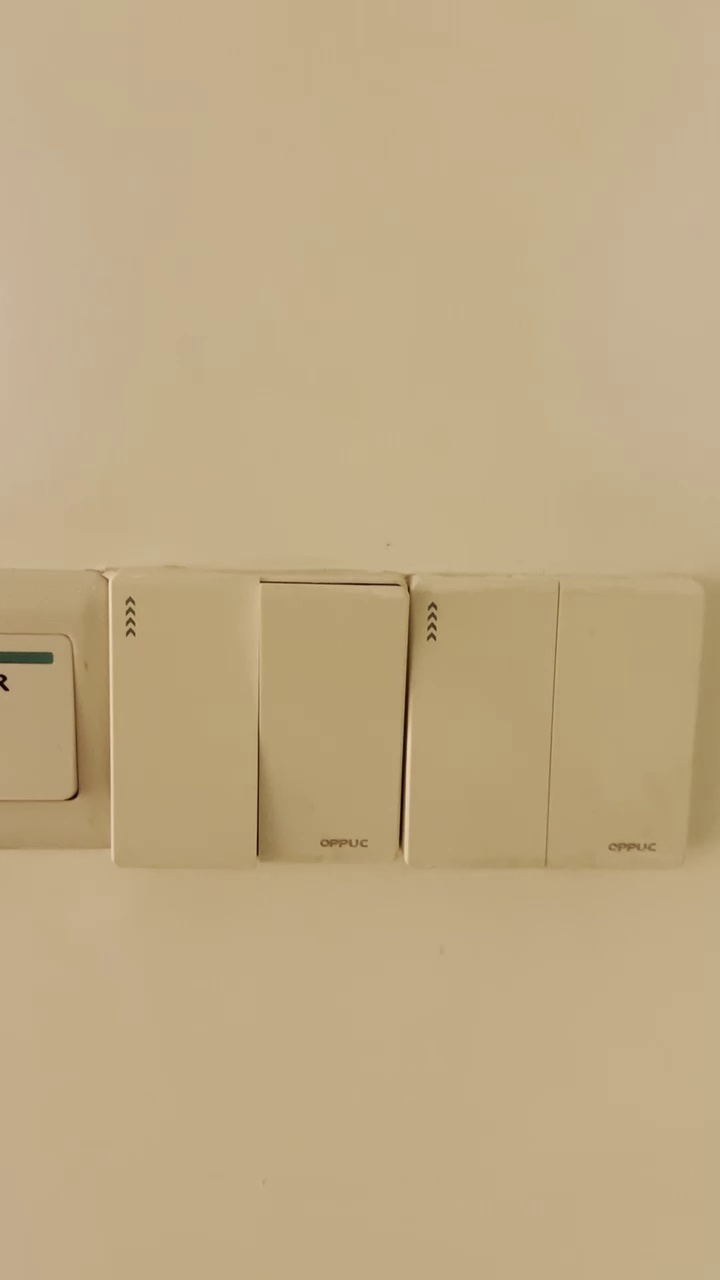button1: (111, 580, 253, 865), (262, 583, 401, 863), (413, 583, 551, 864), (553, 588, 686, 867)
